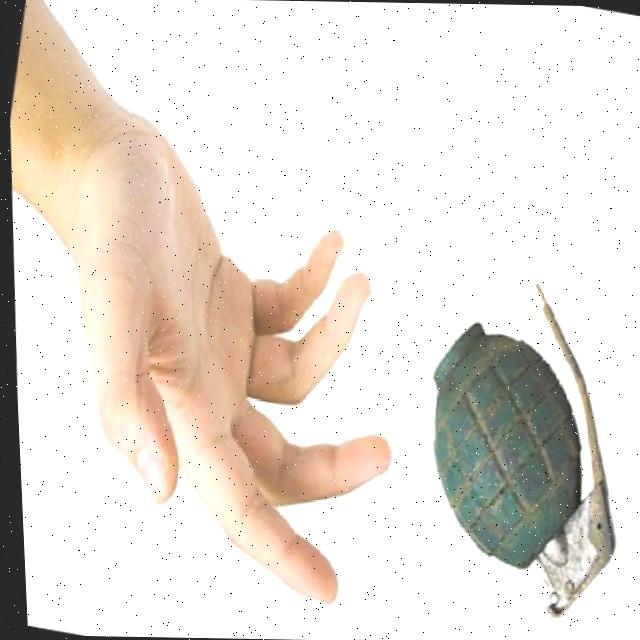grenade: (376, 250, 640, 626)
